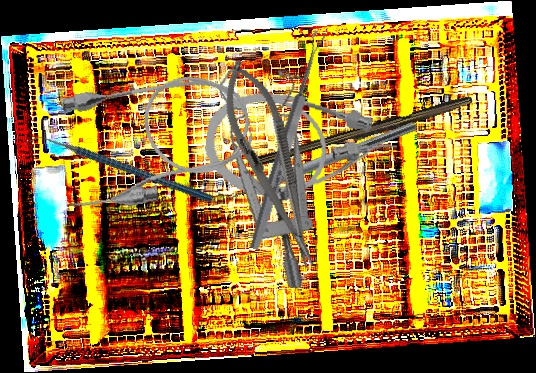Cannula: (49, 62, 261, 218), (199, 85, 403, 213)
Chopper: (23, 82, 215, 258), (207, 107, 418, 212)
Needle Holder: (207, 52, 335, 277)
Scalpel Handle: (256, 91, 475, 173)
Speculum: (179, 56, 349, 291)
Surgical Spoon: (247, 29, 328, 252)
